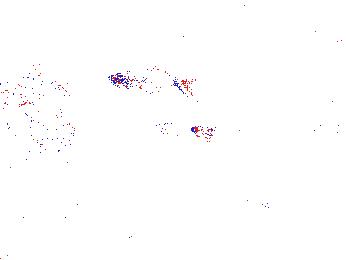X-ray fish: (43, 106, 78, 151)
red belly glassfish: (230, 181, 271, 214), (189, 119, 243, 141)
redtail glassfish: (104, 63, 201, 100), (1, 70, 78, 103), (154, 120, 219, 154), (1, 105, 47, 144)
